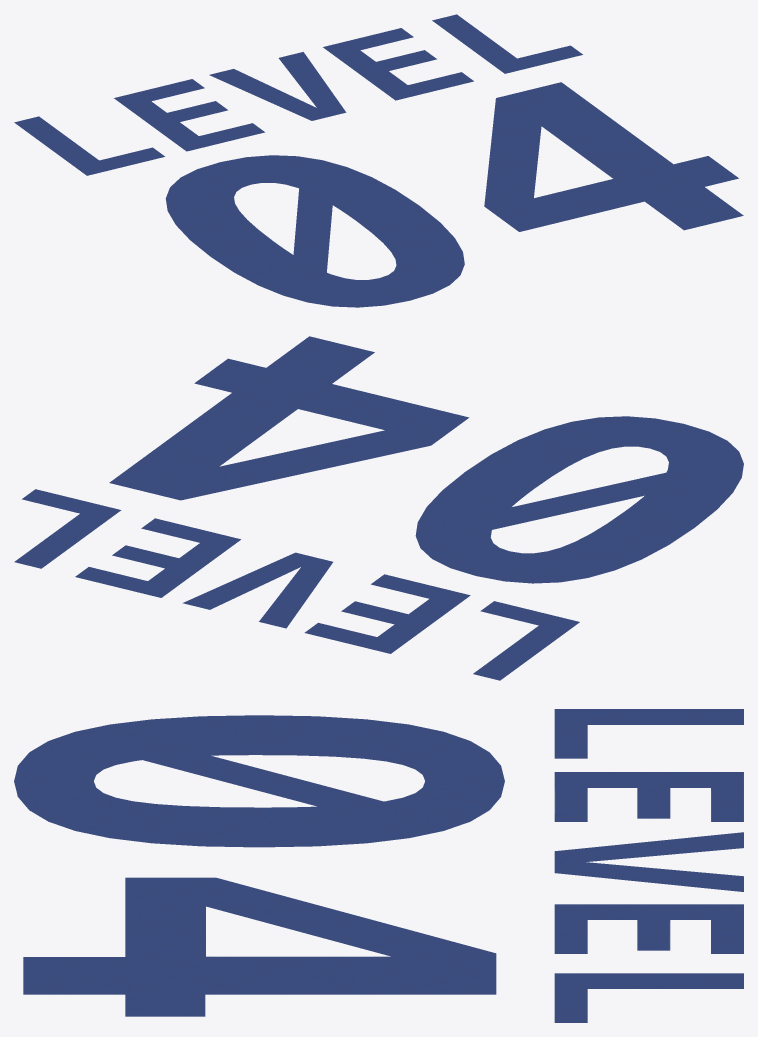
Rendered from Level_04_Label_01.fbx.
The picture shows the model from 3 angles, top to bottom: view 1: azimuth 30°, elevation 25°; view 2: azimuth 150°, elevation 25°; view 3: azimuth 270°, elevation 25°; orthographic projection. The views are drawn at different scales.
Parts seen in each view (by area): view 1: Level_04_Label_01; view 2: Level_04_Label_01; view 3: Level_04_Label_01.
Boxes of the visible parts, bbox=[...] form: Level_04_Label_01: bbox=[14, 14, 743, 307]; Level_04_Label_01: bbox=[14, 336, 743, 680]; Level_04_Label_01: bbox=[14, 709, 743, 1022].
Size of the model in its own units: 915 by 0 by 900.
